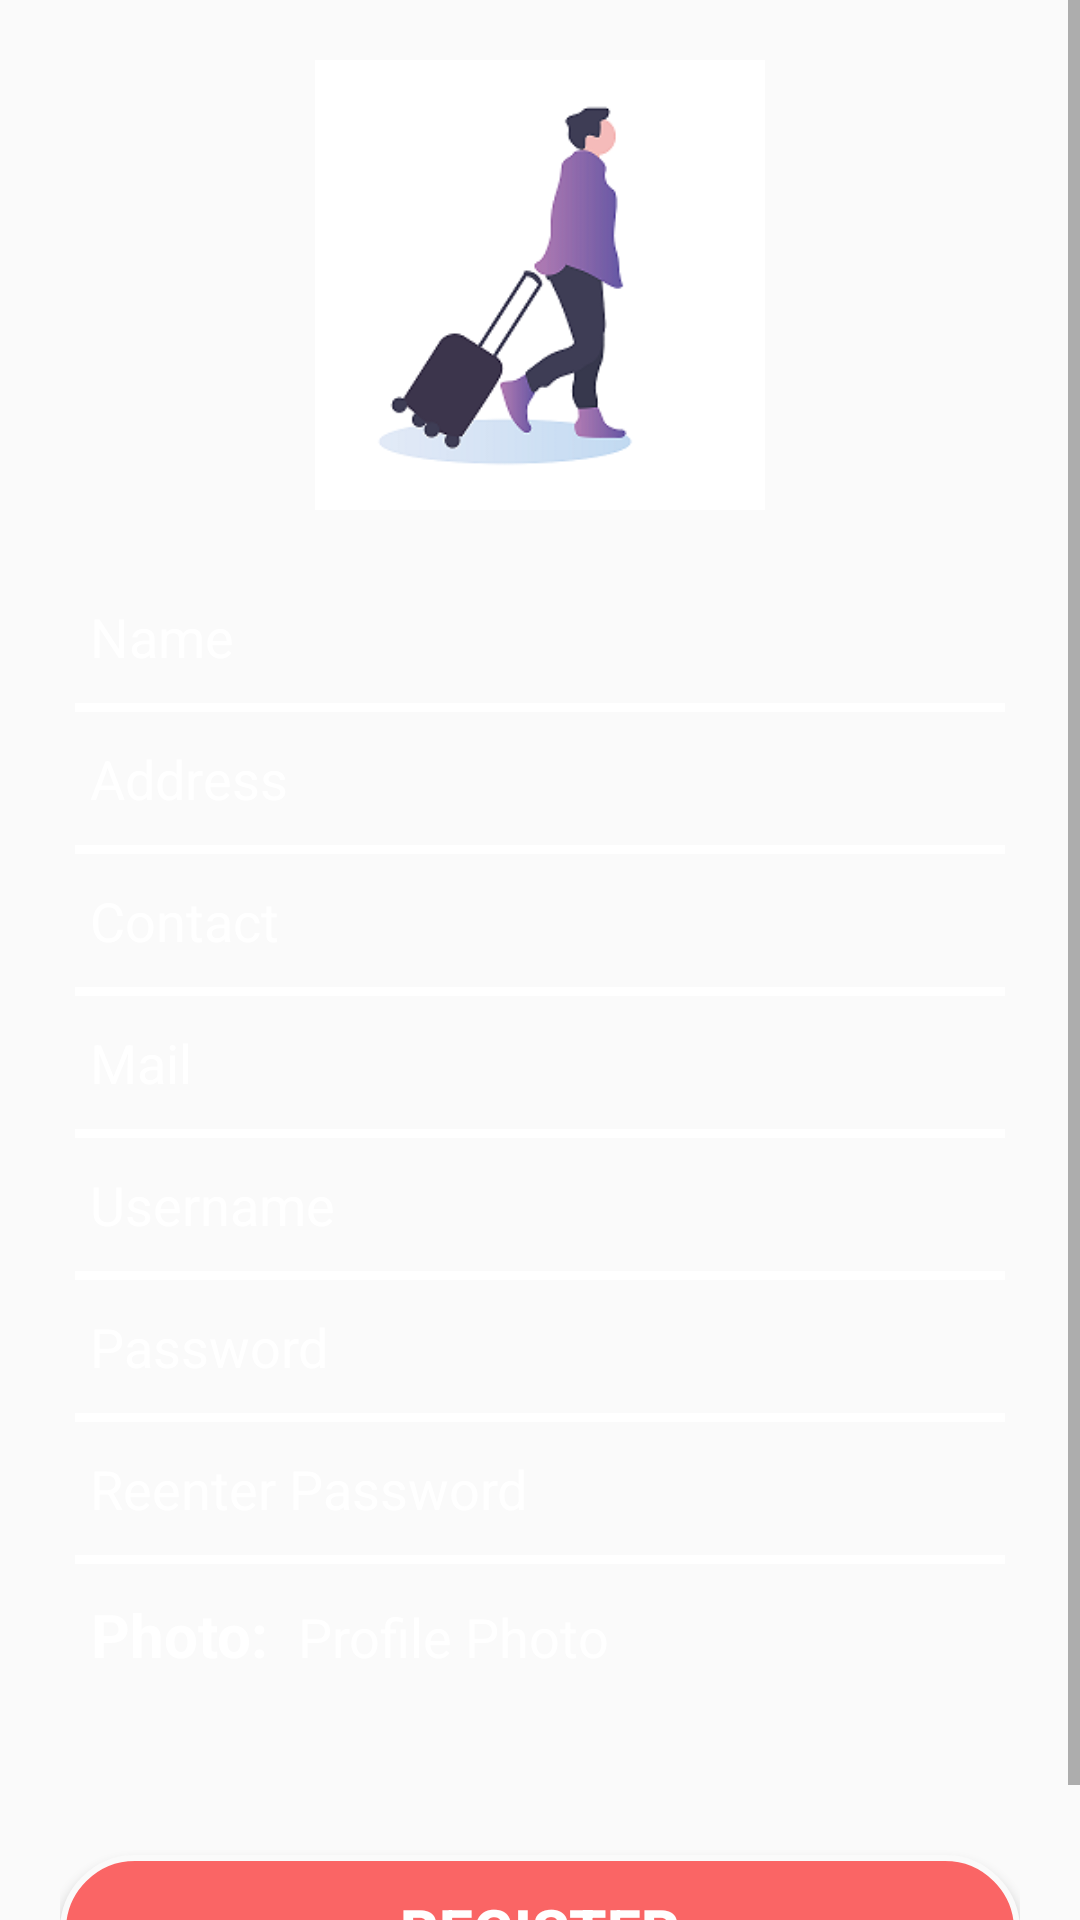

Icons on this 1080×1920 Android screen, each with the point to tap as (x,y):
tourist: (505,285)
